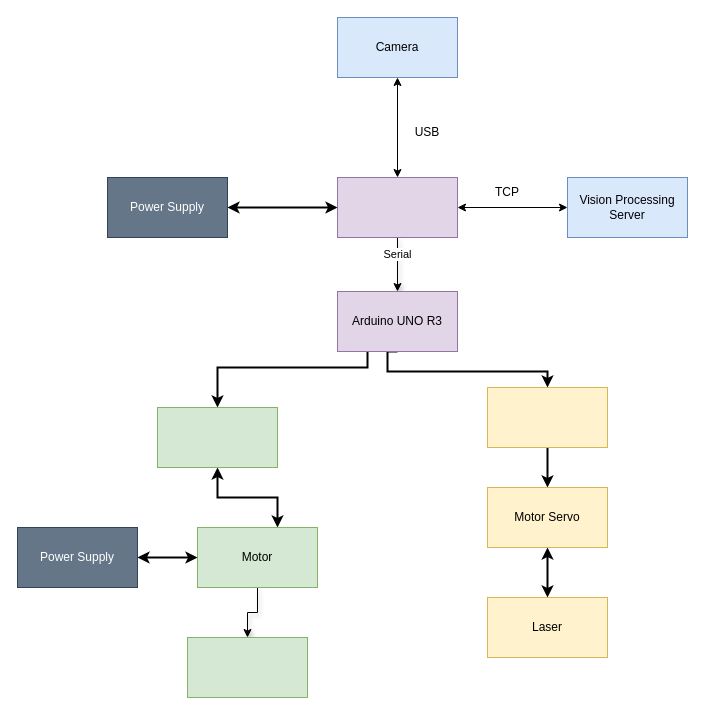
This 705x715 diagram has some shape labels left out. Here are the shapes that lost their labels. From the top down, the centre of each, then its label:
At (397,207): "Raspberry Pi 4".
At (217,437): "Mobility Components".
At (547,417): "Cockroach killing Components".
At (247,667): "Wheels".
